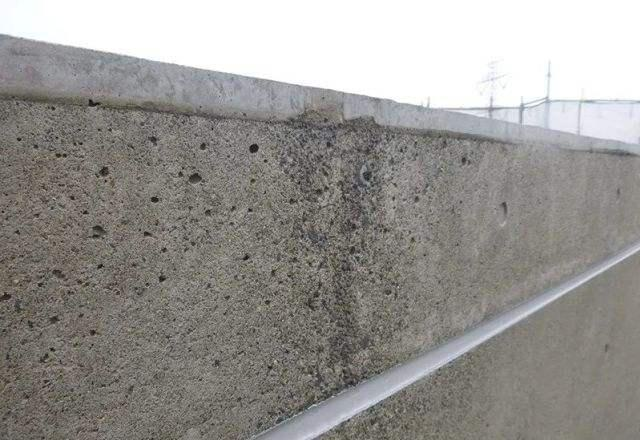Spalling: (1, 103, 476, 366), (496, 201, 508, 225), (614, 186, 622, 203)
